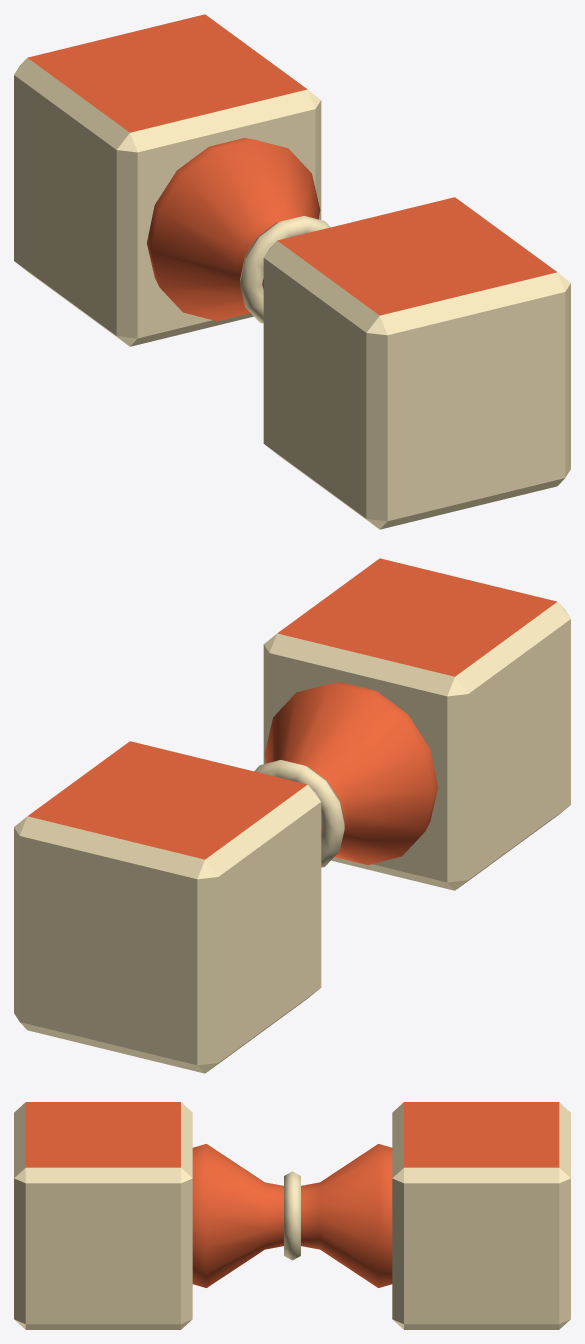
Rendered from R4C_STRUT_STANDARD_LOD1.fbx.
3 renders of one model, top to bottom at view 1: azimuth 30°, elevation 25°; view 2: azimuth 150°, elevation 25°; view 3: azimuth 270°, elevation 25°, orthographic. The views are drawn at different scales.
Visible parts, largest first — view 1: R4C_STRUT_STANDARD_LOD1; view 2: R4C_STRUT_STANDARD_LOD1; view 3: R4C_STRUT_STANDARD_LOD1.
Part boxes in pixels (x1,y1,x2,y2): R4C_STRUT_STANDARD_LOD1: [14, 14, 570, 529]; R4C_STRUT_STANDARD_LOD1: [14, 558, 570, 1073]; R4C_STRUT_STANDARD_LOD1: [14, 1102, 570, 1329].
Size of the model in its own units: 0.52 by 0.52 by 1.62.
